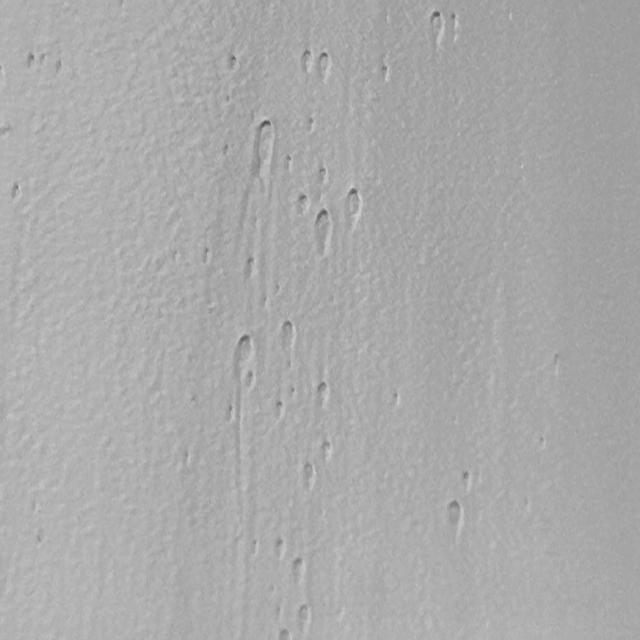pin holes: (252, 122, 276, 163), (422, 9, 447, 45), (310, 210, 332, 250), (233, 334, 255, 372), (343, 188, 365, 223), (444, 498, 466, 531), (276, 318, 296, 353), (294, 601, 314, 632), (445, 12, 463, 42), (290, 556, 309, 583), (300, 462, 318, 490), (300, 49, 317, 78), (293, 192, 311, 218), (312, 380, 329, 407), (550, 349, 565, 379), (32, 527, 51, 549), (318, 439, 335, 462), (242, 254, 258, 278), (273, 538, 289, 560), (10, 181, 25, 204), (318, 51, 329, 81), (223, 403, 238, 425), (243, 368, 256, 392), (461, 470, 475, 491), (26, 51, 39, 73), (201, 246, 214, 267), (273, 398, 286, 418), (378, 62, 391, 80), (537, 433, 550, 451), (316, 166, 328, 185), (306, 116, 318, 135), (390, 392, 403, 409), (284, 155, 296, 173), (228, 55, 240, 72), (0, 62, 8, 87), (276, 626, 290, 640), (54, 58, 65, 75), (289, 385, 299, 401)
